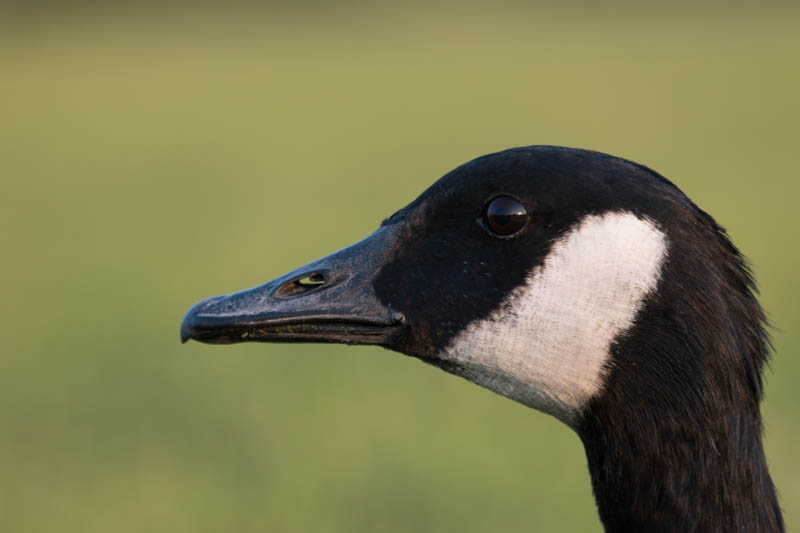goose-head: (179, 145, 762, 434)
